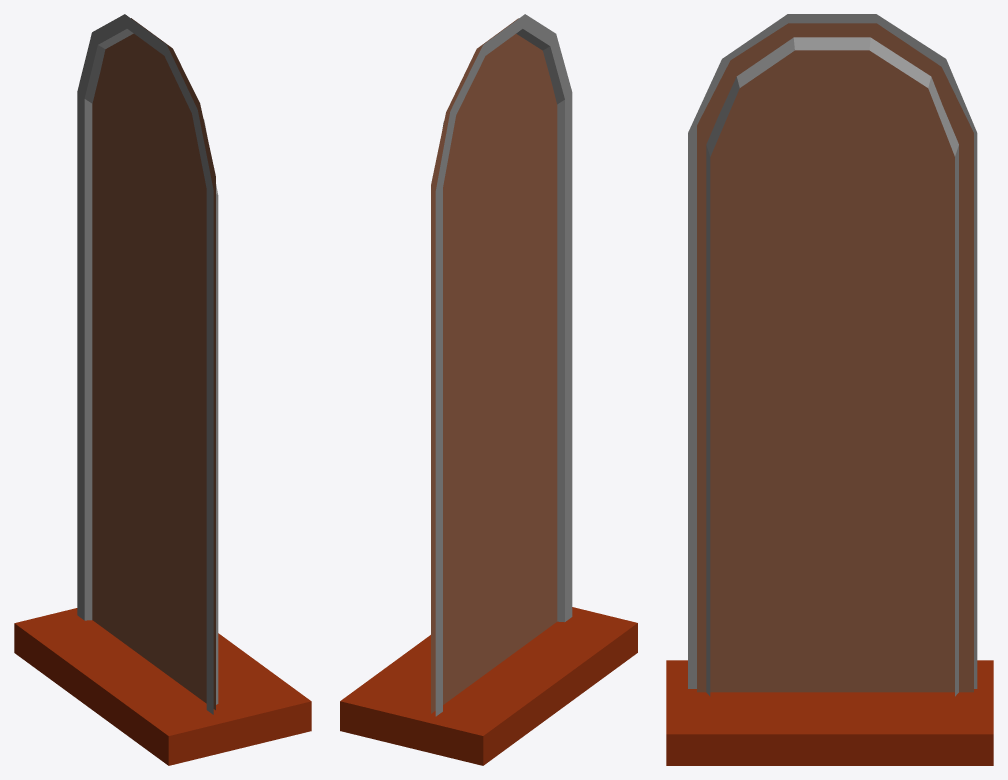
The model's file is SM_Windows_02.FBX.
3 views of the same model, side by side, from view 1: azimuth 30°, elevation 25°; view 2: azimuth 150°, elevation 25°; view 3: azimuth 270°, elevation 25° (orthographic). The views are drawn at different scales.
Parts seen in each view (by area): view 1: Box001; view 2: Box001; view 3: Box001.
Boxes of the visible parts, left/top/right/bottom form: Box001: left=14, top=14, right=311, bottom=765; Box001: left=340, top=14, right=637, bottom=765; Box001: left=666, top=14, right=993, bottom=765.
Bounding box in the file's own units: 177 × 786 × 330.
